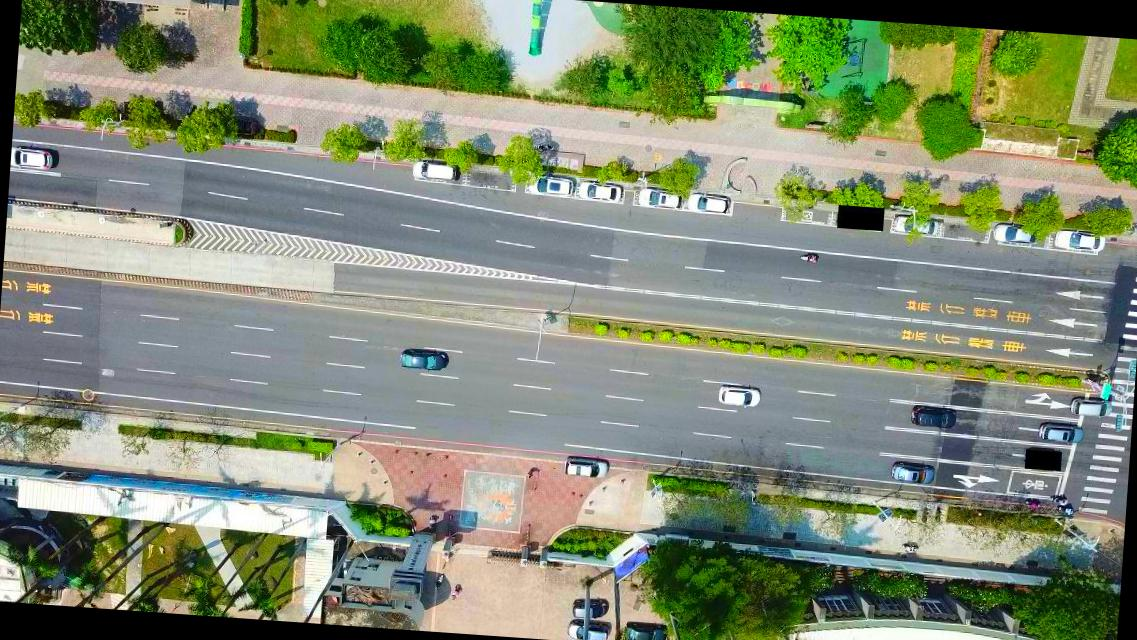vehicle: (10, 146, 56, 172), (400, 348, 448, 372), (716, 382, 760, 408), (637, 186, 681, 212), (910, 405, 955, 430), (1053, 231, 1104, 253), (894, 215, 942, 238), (410, 158, 456, 182), (524, 174, 571, 197), (890, 462, 934, 486), (562, 456, 610, 478), (991, 222, 1036, 245), (1037, 422, 1083, 444), (686, 193, 732, 215), (1070, 395, 1115, 417), (578, 182, 622, 204), (567, 618, 609, 639), (622, 621, 668, 639), (572, 601, 608, 619)
